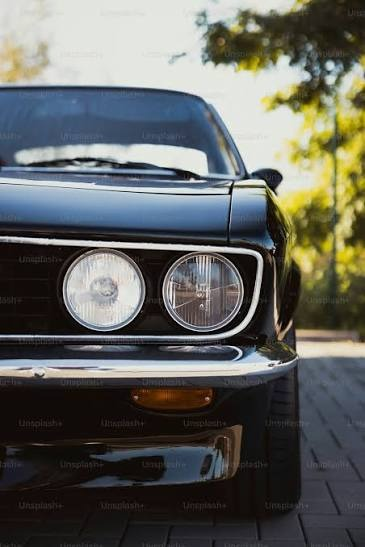car: (1, 57, 297, 537)
